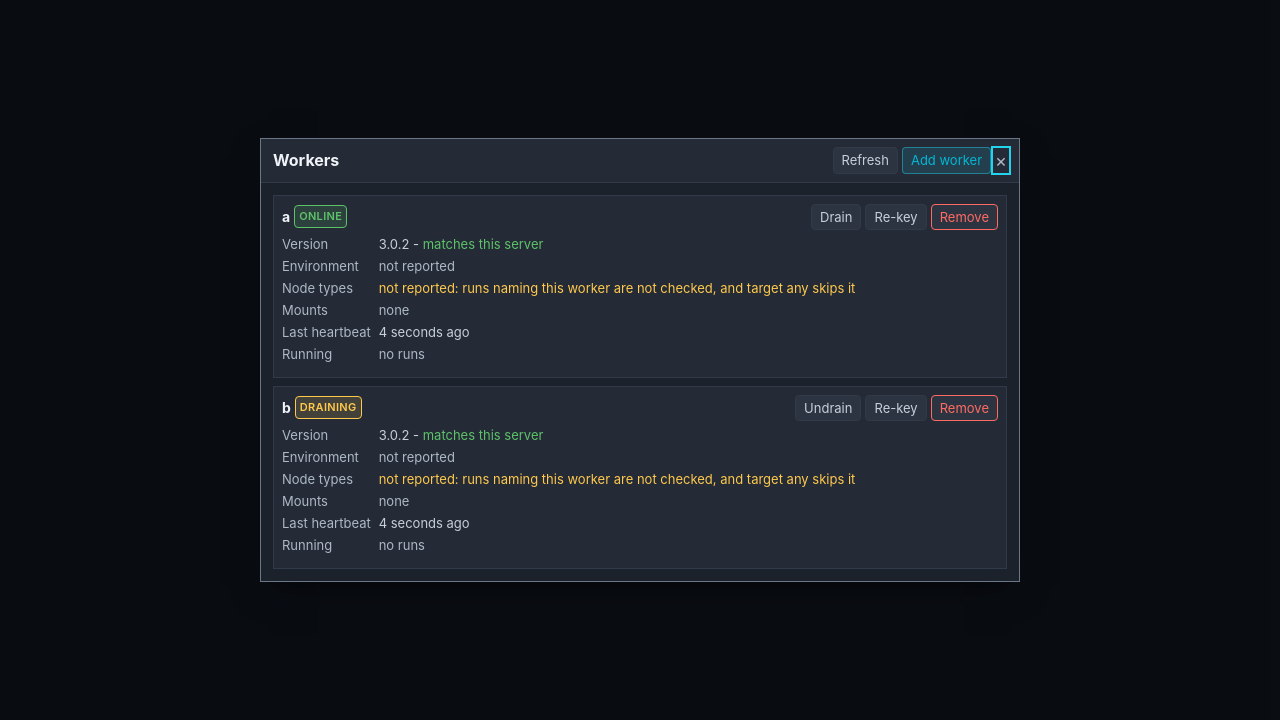
Test: WorkersPanel › drains an online worker and undrains a draining one
Expected: the text "Draining" is shown, left=295, top=396, right=362, bottom=419
Click the button "Drain": [836, 217] box left=811, top=204, right=861, bottom=230
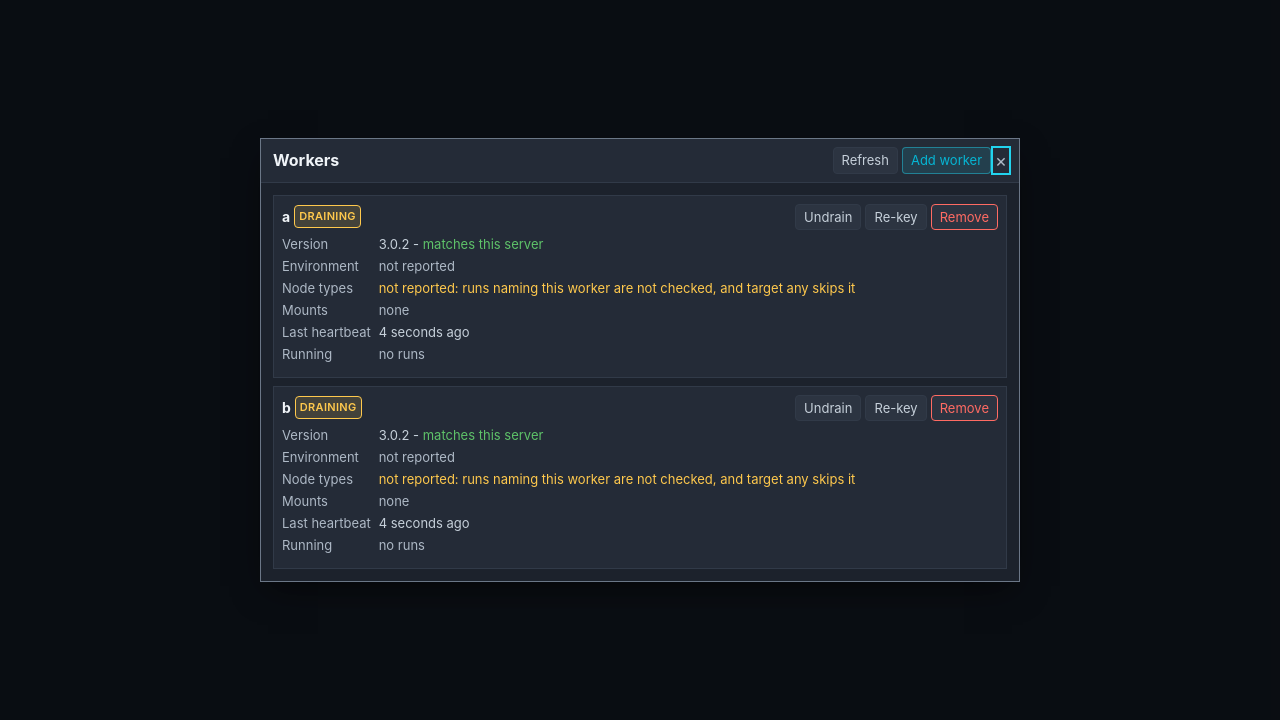
Expected: the 1st text "Draining" is shown, left=294, top=205, right=361, bottom=228
Click the 2nd button "Undrain": [828, 408] box left=795, top=395, right=861, bottom=421
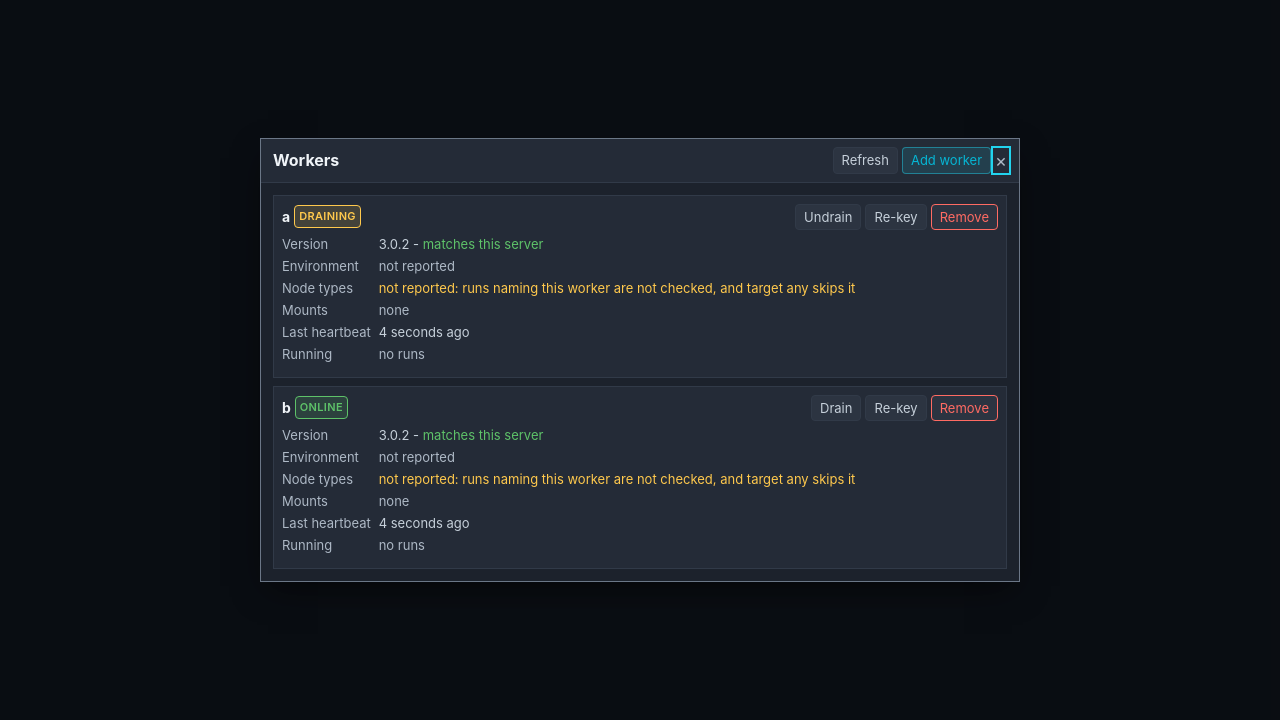
Expected: the text "Online" is shown, left=295, top=396, right=348, bottom=419
